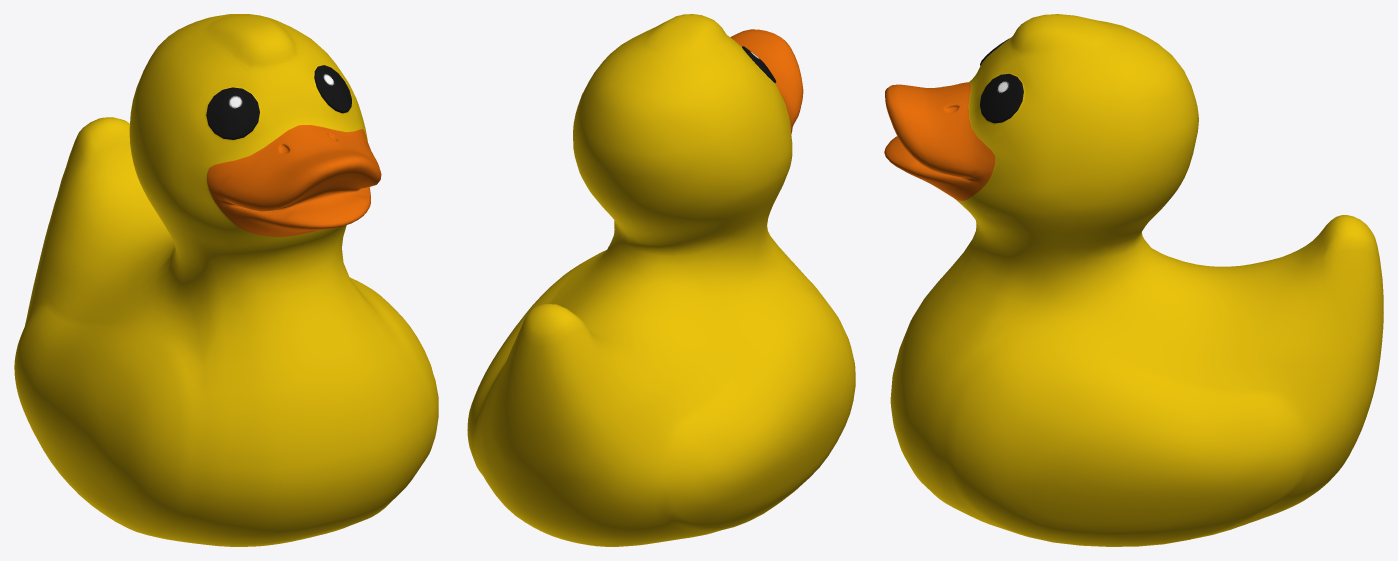
3 views of the same model, side by side, from view 1: azimuth 30°, elevation 25°; view 2: azimuth 150°, elevation 25°; view 3: azimuth 270°, elevation 25° (orthographic). The views are drawn at different scales.
Parts seen in each view (by area): view 1: Duck; view 2: Duck; view 3: Duck.
Part boxes in pixels (left/top/right/bottom): Duck: left=14, top=14, right=438, bottom=546; Duck: left=467, top=14, right=855, bottom=546; Duck: left=884, top=14, right=1383, bottom=546.
Bounding box in the file's own units: 0.725 × 1.05 × 0.9954.
1 material, 1 textured.
